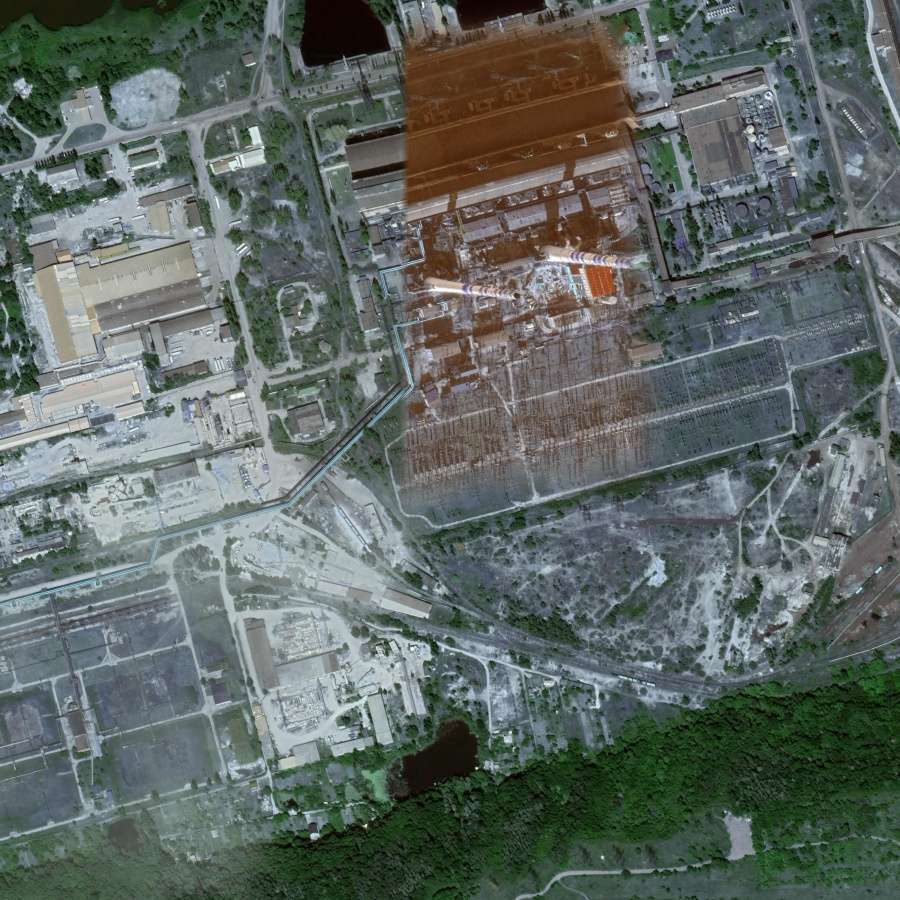PowerPlant: (369, 118, 709, 387)
